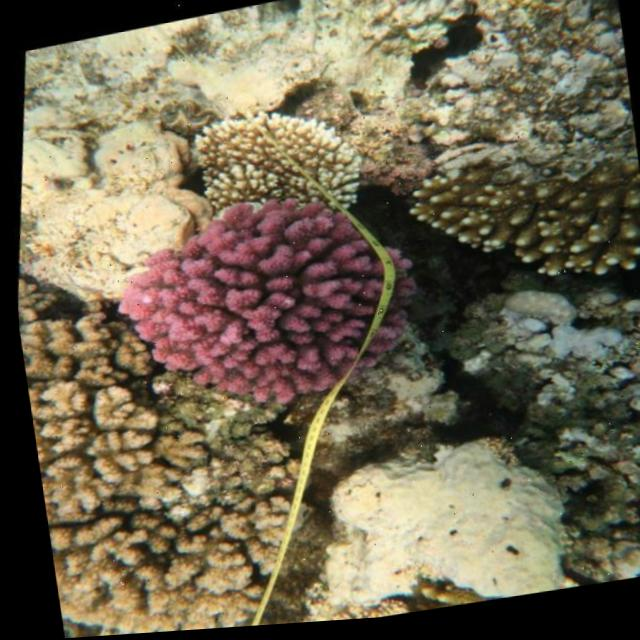Bleached Coral: (308, 449, 570, 622)
Healthy Coral: (77, 144, 448, 453), (415, 159, 640, 311), (192, 113, 344, 226)
